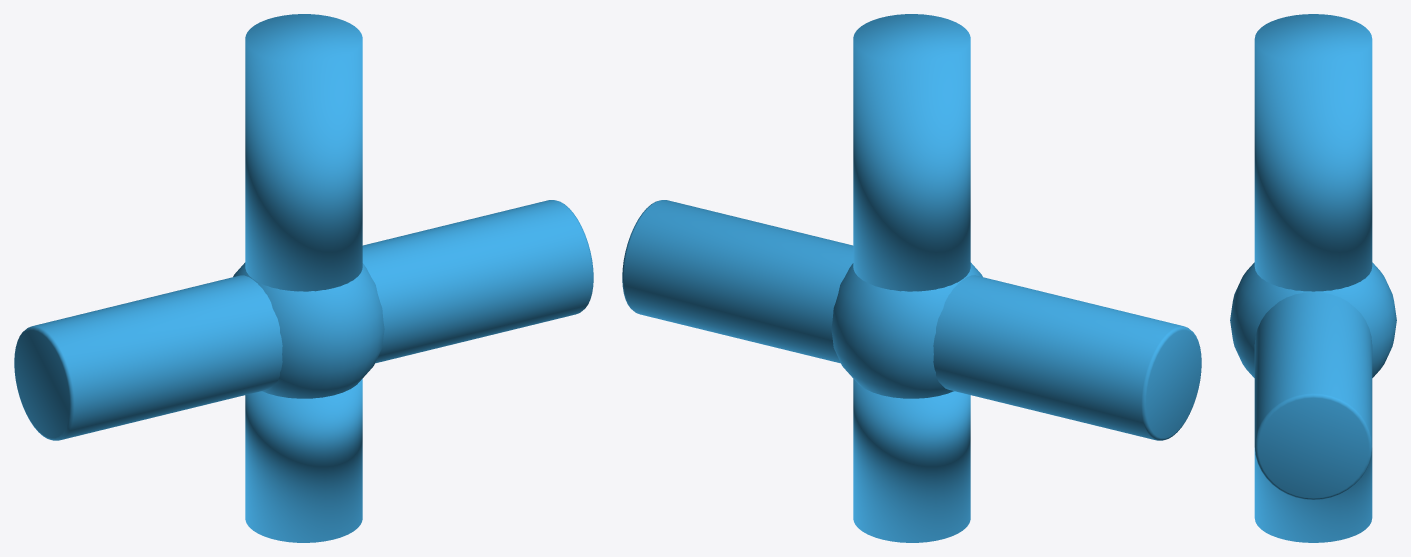
File: pipe-cross.glb
3 renders of one model, left to right at view 1: azimuth 30°, elevation 25°; view 2: azimuth 150°, elevation 25°; view 3: azimuth 270°, elevation 25°, orthographic.
Parts seen in each view (by area): view 1: cross main pipe body, cross upper branch, cross lower branch, cross rounded junction body; view 2: cross main pipe body, cross upper branch, cross lower branch, cross rounded junction body; view 3: cross upper branch, cross main pipe body, cross rounded junction body, cross lower branch.
Part boxes in pixels (left/top/right/bottom): cross main pipe body: left=14, top=200, right=593, bottom=440; cross upper branch: left=245, top=14, right=362, bottom=291; cross lower branch: left=245, top=379, right=362, bottom=542; cross rounded junction body: left=233, top=262, right=384, bottom=398; cross main pipe body: left=622, top=200, right=1201, bottom=440; cross upper branch: left=853, top=14, right=970, bottom=291; cross lower branch: left=853, top=379, right=970, bottom=542; cross rounded junction body: left=831, top=262, right=982, bottom=398; cross upper branch: left=1254, top=14, right=1372, bottom=291; cross main pipe body: left=1254, top=292, right=1372, bottom=499; cross rounded junction body: left=1230, top=262, right=1396, bottom=377; cross lower branch: left=1254, top=448, right=1372, bottom=542.
Bounding box in the file's own units: 1.44 × 1.26 × 0.3976.
